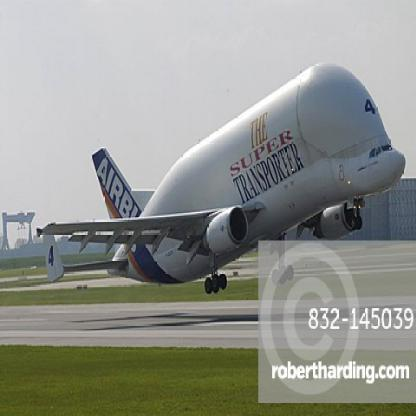CIV_Plane: (31, 59, 408, 294)
